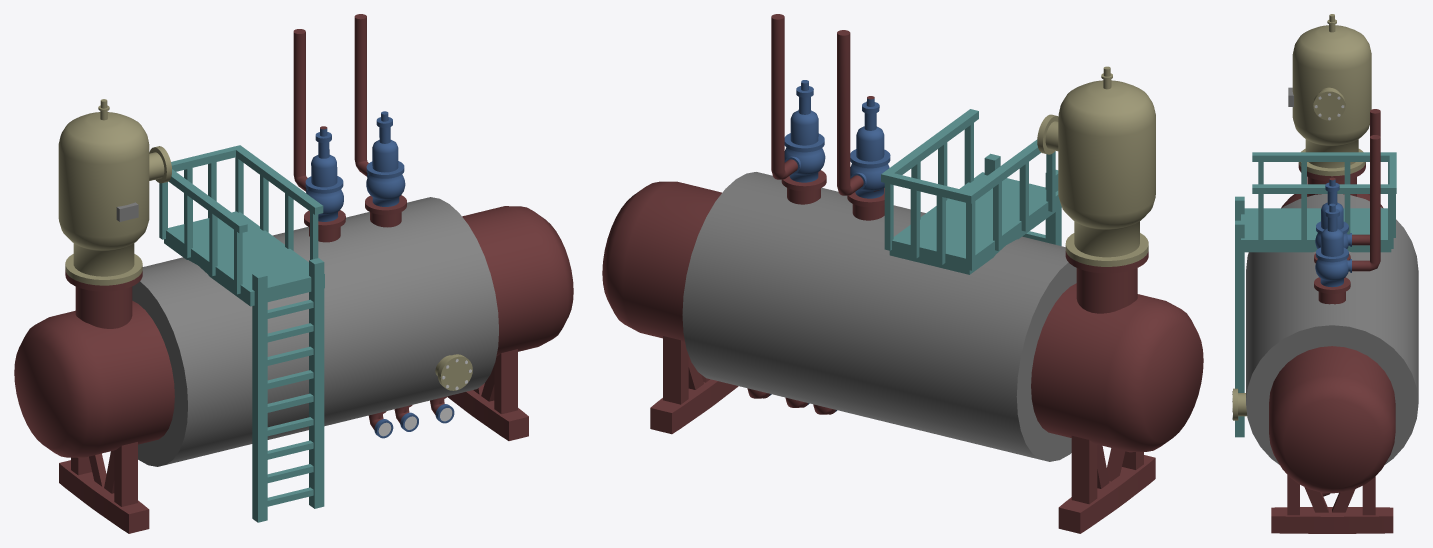
File: tec4.fbx
3 views of the same model, side by side, from view 1: azimuth 30°, elevation 25°; view 2: azimuth 150°, elevation 25°; view 3: azimuth 270°, elevation 25° (orthographic). The views are drawn at different scales.
Parts seen in each view (by area): view 1: Деаэратор; view 2: Деаэратор; view 3: Деаэратор.
Part boxes in pixels (left/top/right/bottom): Деаэратор: left=14, top=14, right=573, bottom=533; Деаэратор: left=602, top=14, right=1203, bottom=533; Деаэратор: left=1232, top=14, right=1418, bottom=533.
Bounding box in the file's own units: 986 × 742 × 355.
